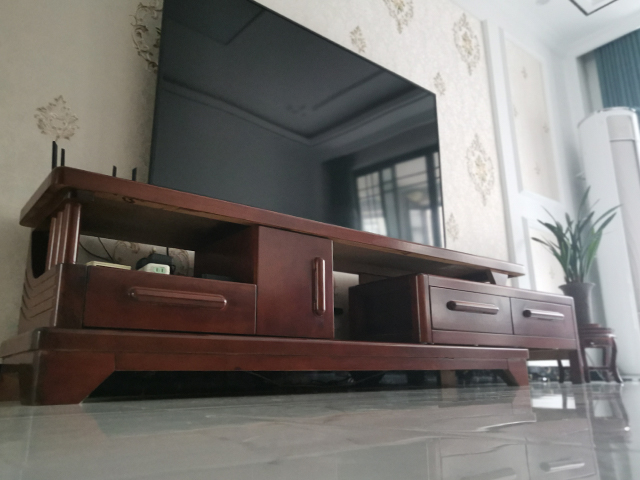cabinet: (1, 163, 591, 407)
stool: (553, 322, 623, 385)
